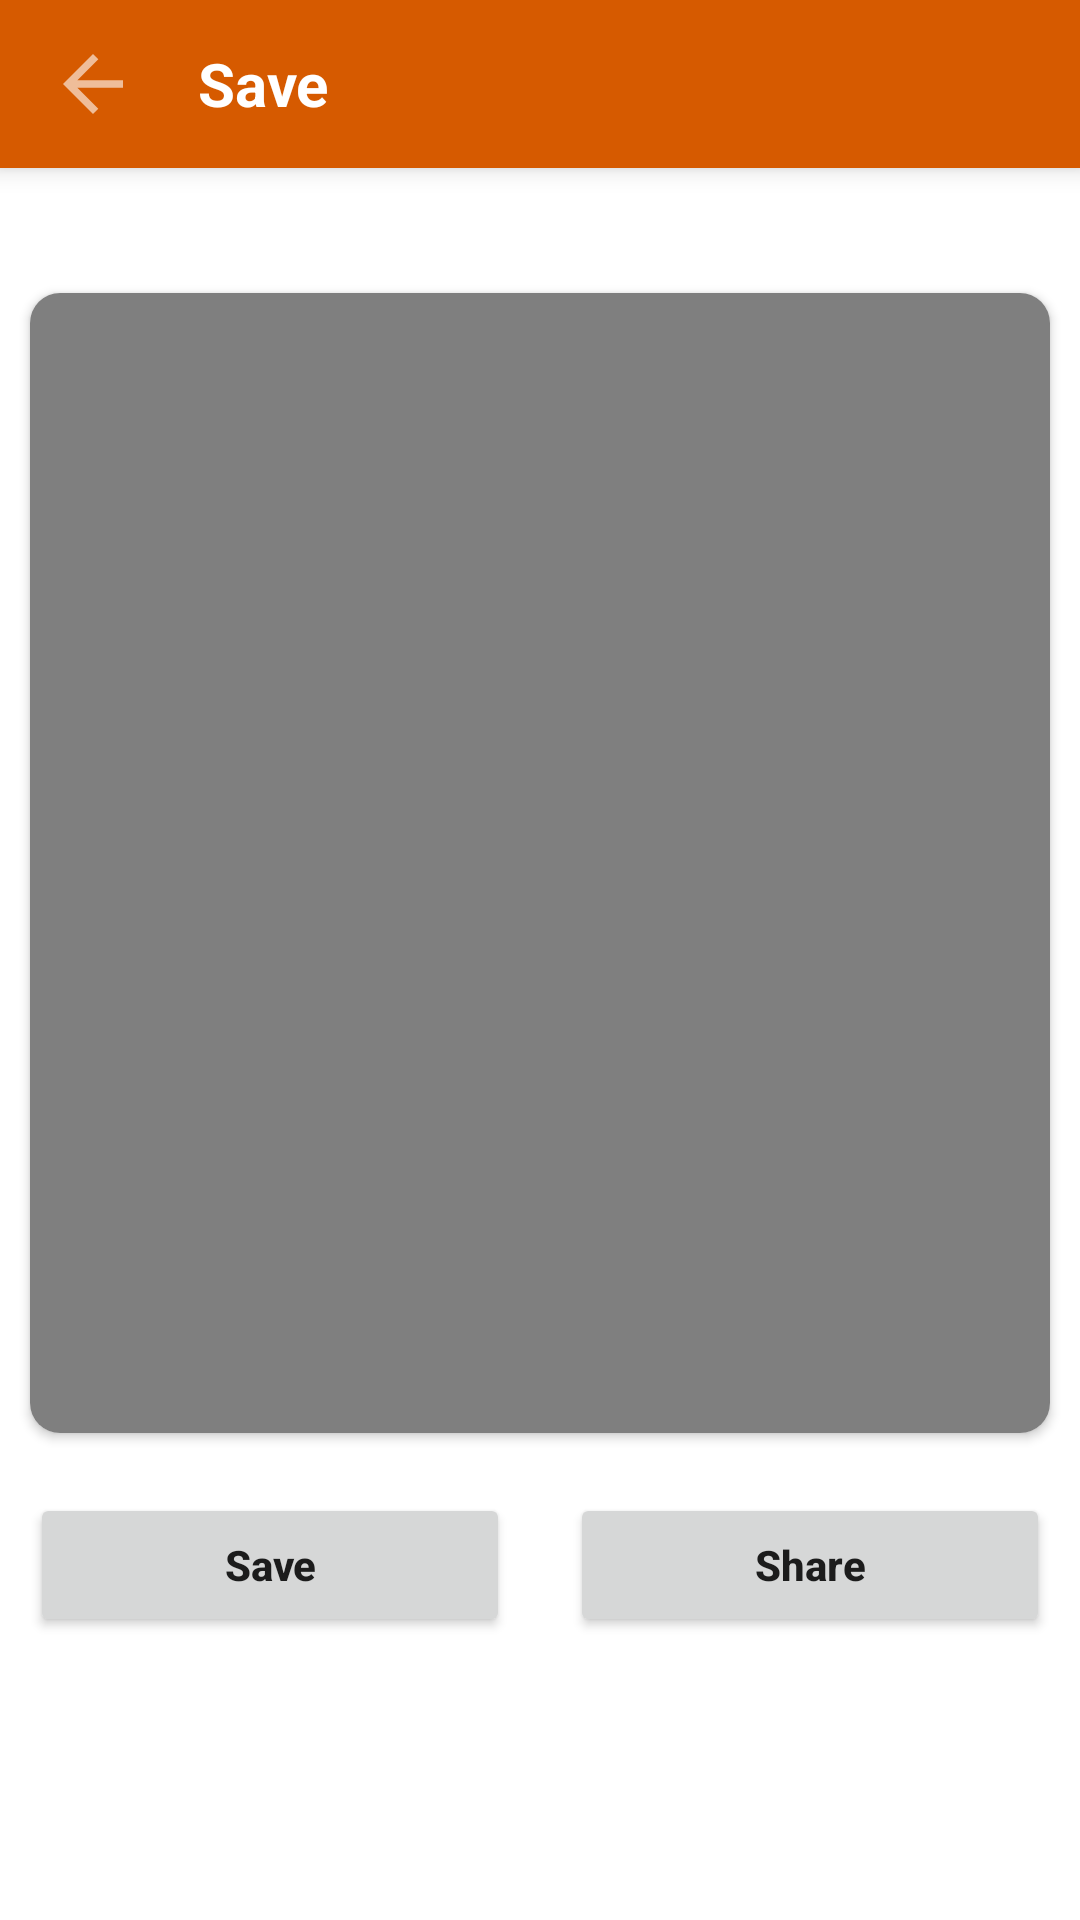

Icon bounding boxes for this 1080 x 1920 phone screenshot, format region(x1, y1, x2, y2):
arrow back: region(63, 54, 123, 114)
